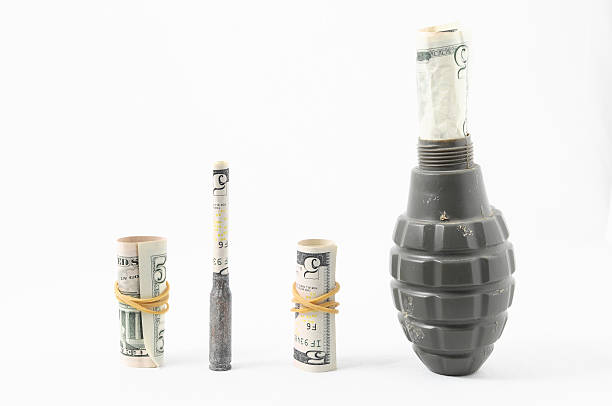e1: (387, 129, 537, 383)
